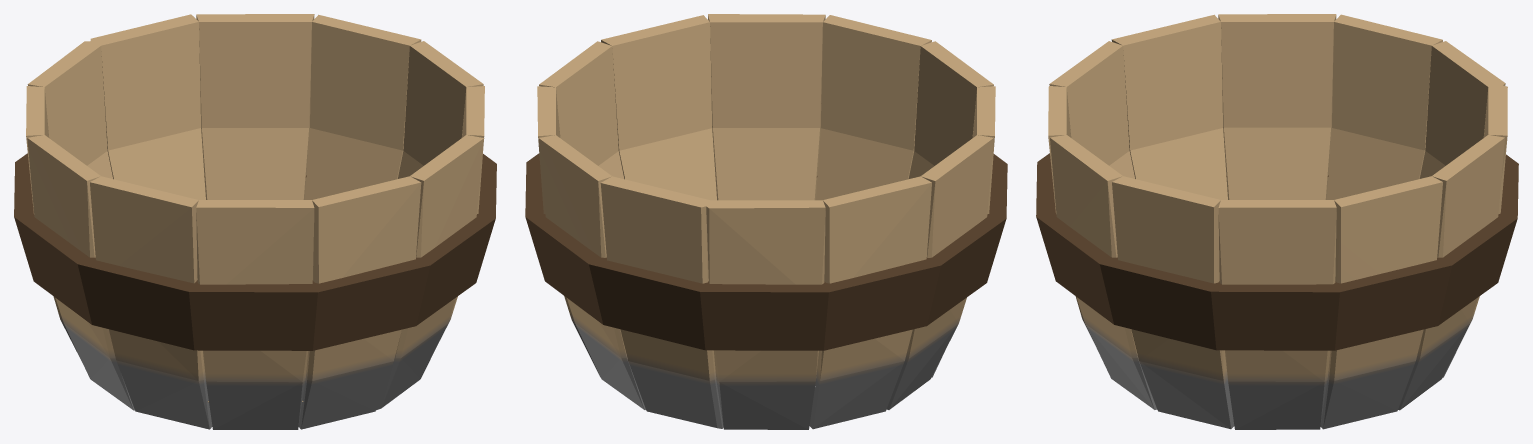
Rendered from Basket_02.fbx.
The picture shows the model from 3 angles, left to right: view 1: azimuth 30°, elevation 25°; view 2: azimuth 150°, elevation 25°; view 3: azimuth 270°, elevation 25°; orthographic projection.
Visible parts, largest first — view 1: Basket_02; view 2: Basket_02; view 3: Basket_02.
Part boxes in pixels (x1,y1,x2,y2): Basket_02: (14, 14, 496, 429); Basket_02: (525, 14, 1007, 429); Basket_02: (1036, 14, 1518, 429).
Bounding box in the file's own units: 55.6 × 31.73 × 55.6.
